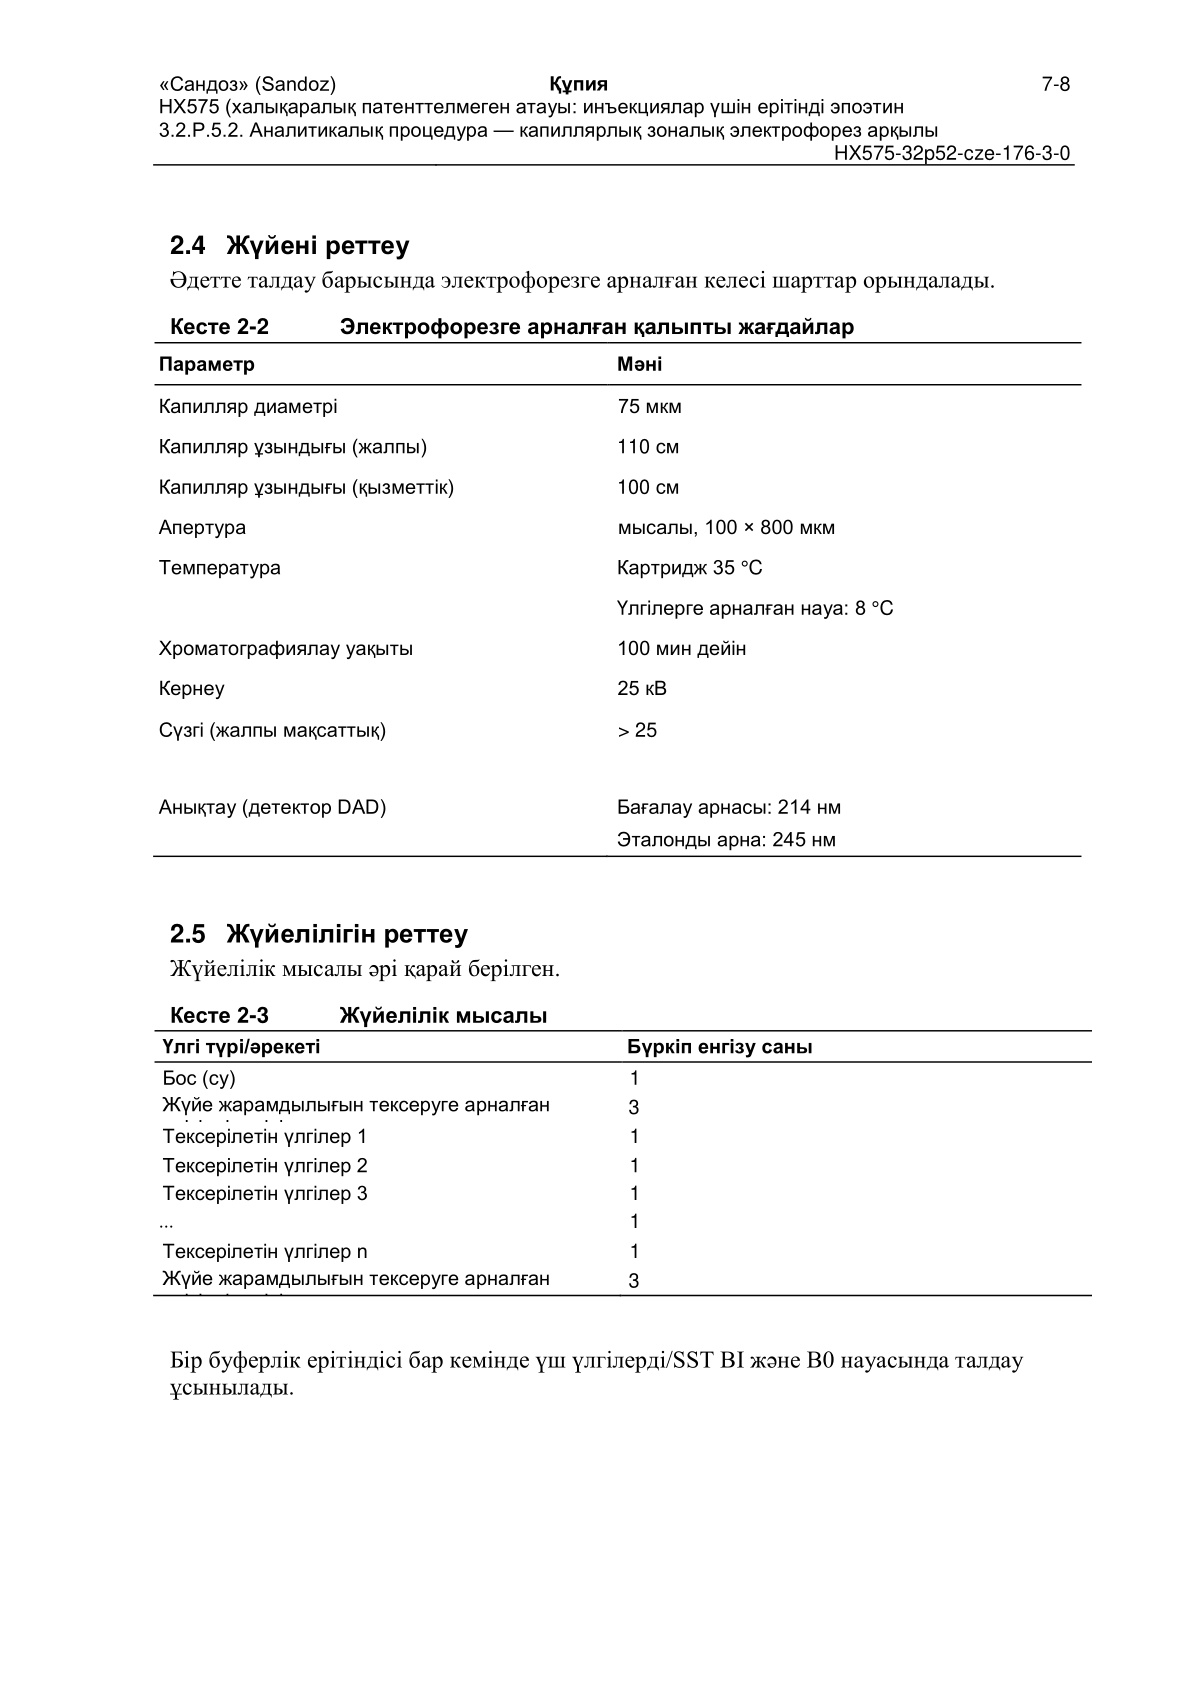partial_lined: (152, 340, 1083, 858), (153, 1029, 1090, 1297)
